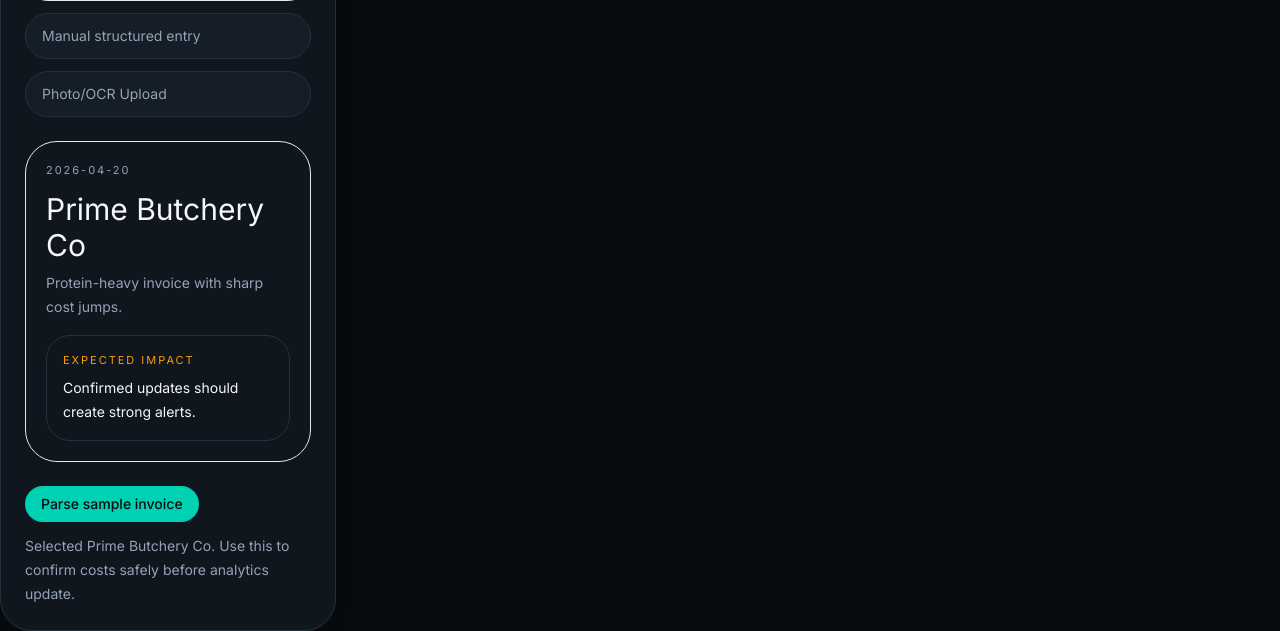
Test: InvoicesPage › renders confirmation summary and alerts after review-confirm
(page scrolled)
Expected: the text "Selected Prime Butchery Co. Use this to confirm costs safely before analytics update." is shown, 25,534 -> 311,606
Click the button "Parse sample invoice" at (112, 504), box 25,486 -> 199,522
(page scrolled)
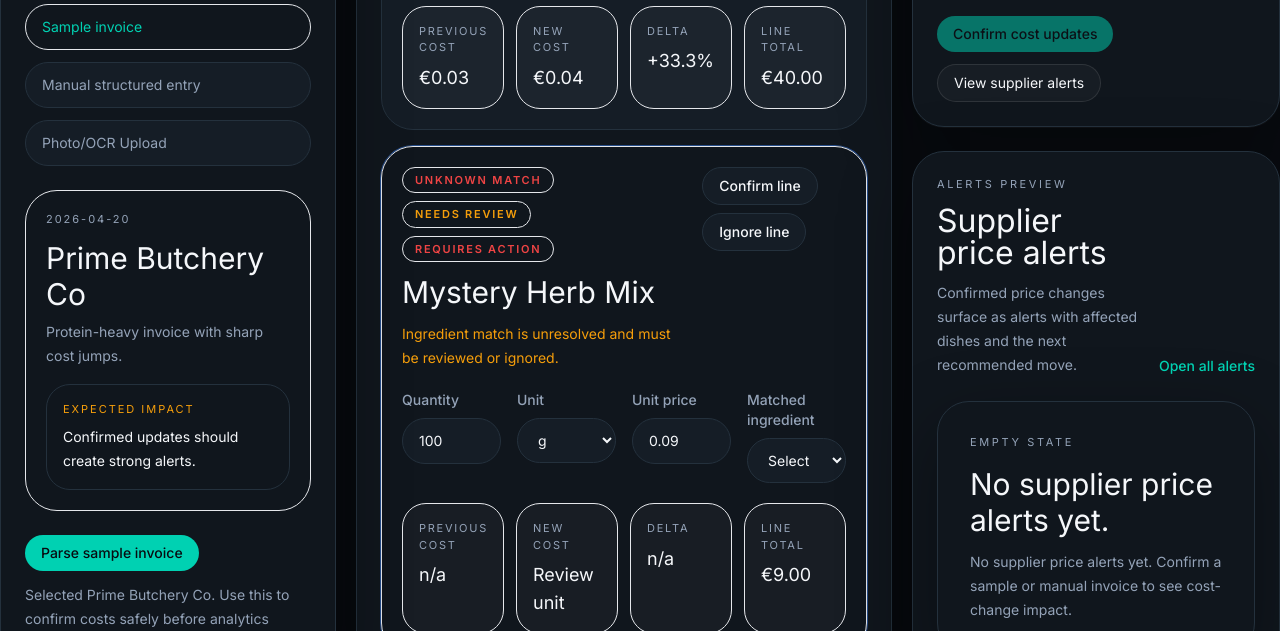
Click the button "Ignore line" at (754, 232), box 702,212 -> 806,250
(page scrolled)
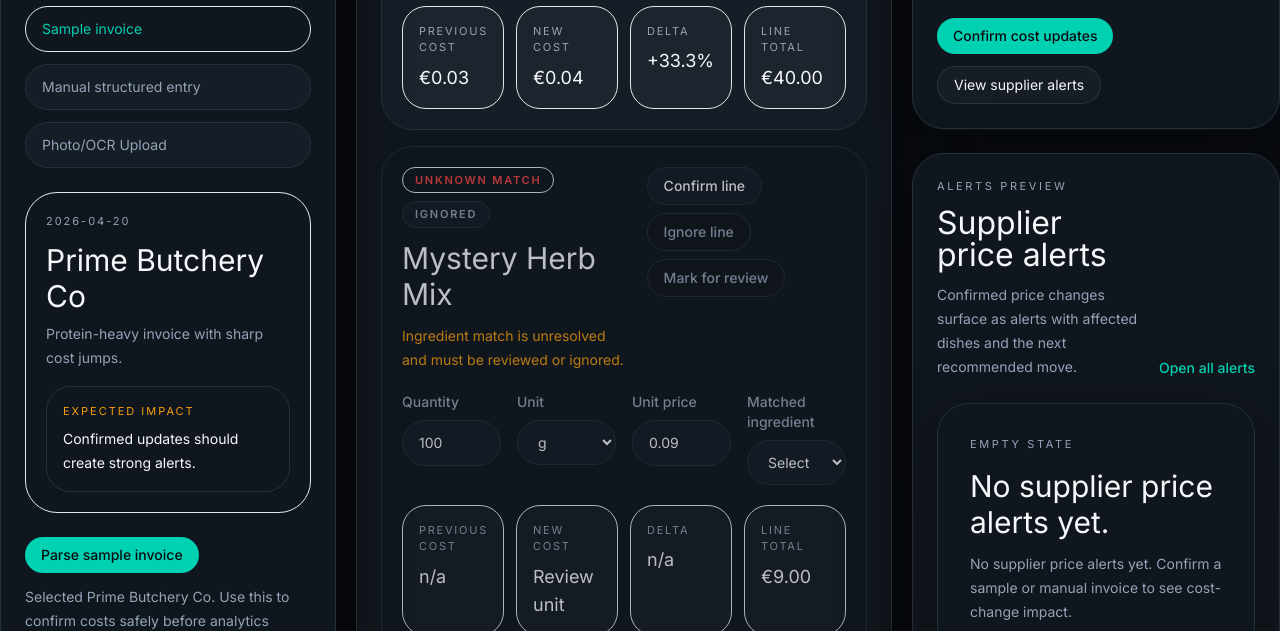
Expected: the text "ignored" is shown, 402,201 -> 490,228
Expected: the button "Confirm cost updates" is enabled
Click the button "Confirm cost updates" at (1025, 36), box 937,18 -> 1113,54
(page scrolled)
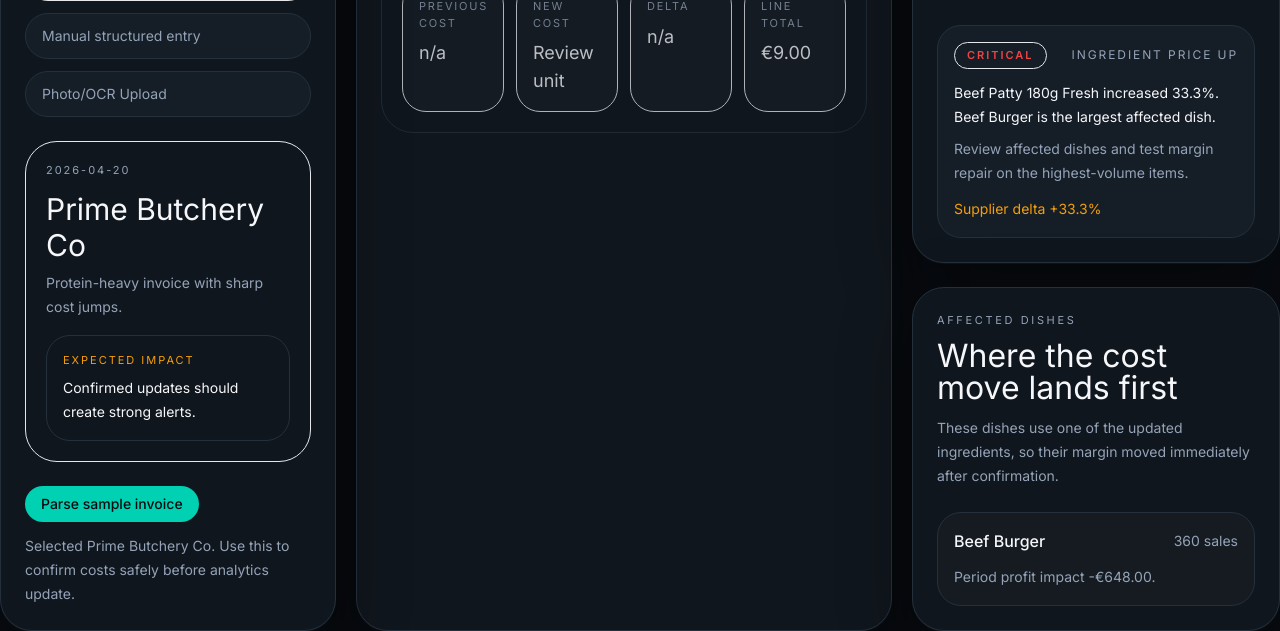
Expected: the text "Beef Patty 180g Fresh increased 33.3%. Beef Burger is the largest affected dish." is shown, 954,80 -> 1238,128
Expected: the heading "Where the cost move lands first" is shown, 937,336 -> 1178,407
